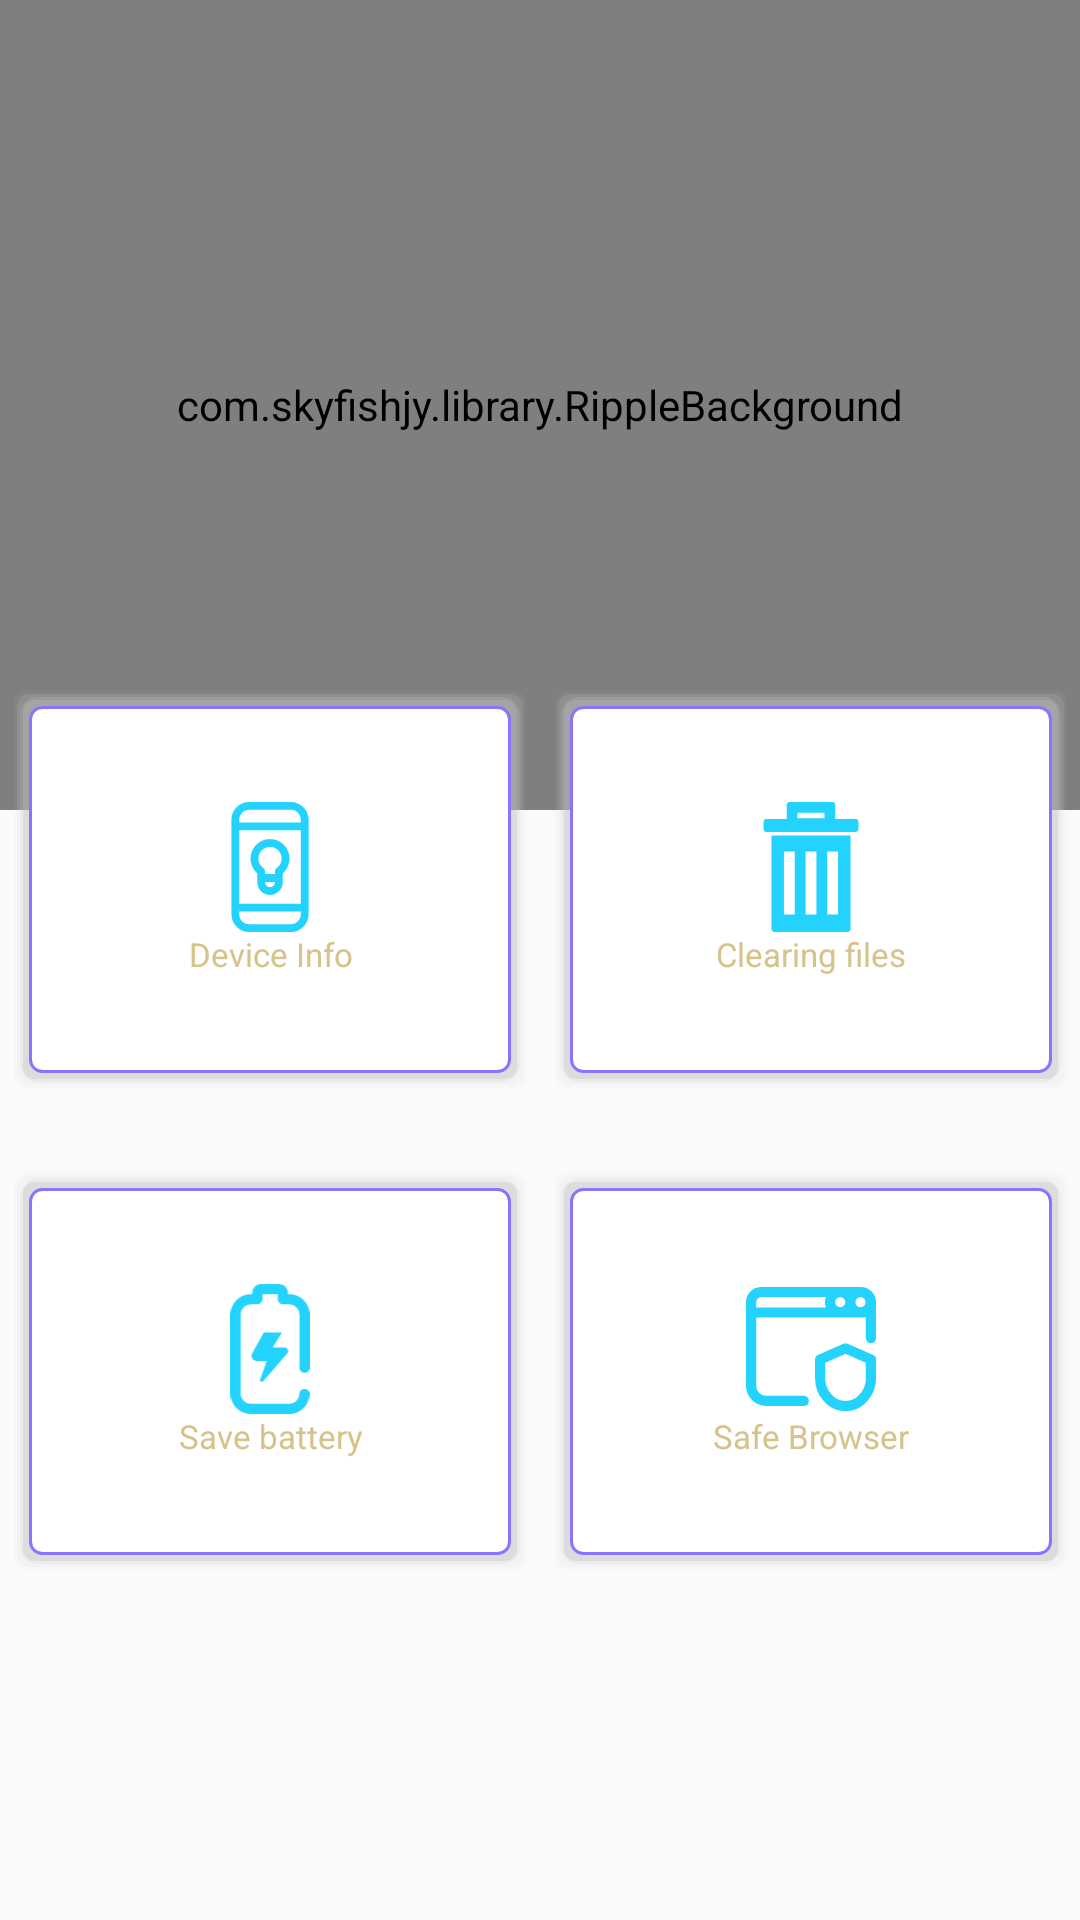

Icon bounding boxes for this 1080px x 1920px phone screenshot, format detection(x1, y1, x2, y2):
idea: detection(231, 802, 309, 932)
junk file: detection(763, 802, 859, 932)
